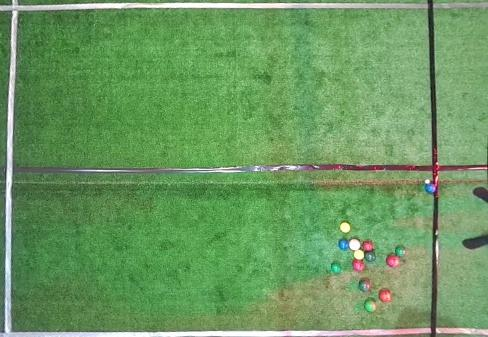blue: (338, 239, 348, 250), (425, 184, 436, 194)
green: (364, 299, 376, 313), (359, 280, 371, 292), (364, 252, 375, 262), (395, 247, 405, 257), (331, 263, 341, 273)
red: (378, 289, 392, 302), (386, 254, 400, 267), (352, 260, 365, 271), (349, 239, 360, 250), (363, 241, 374, 251)
vline: (427, 0, 487, 336), (0, 0, 20, 336)
white: (425, 179, 430, 184)
yellow: (340, 222, 350, 233), (354, 250, 364, 260)
